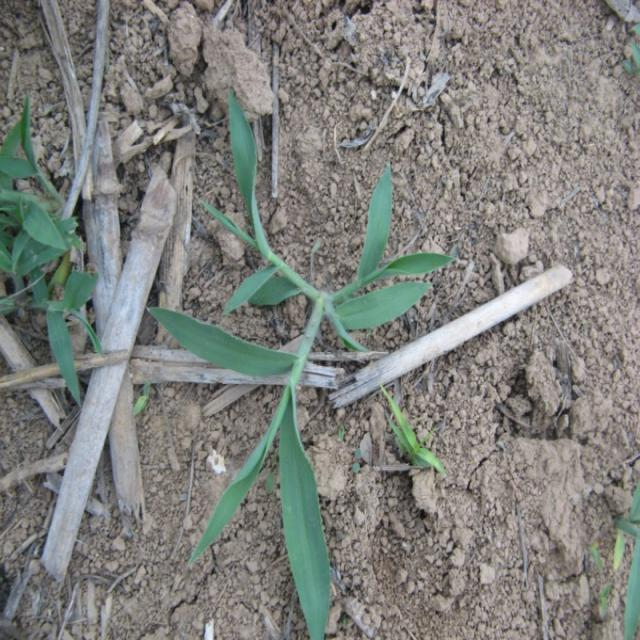bg: (141, 95, 455, 635)
